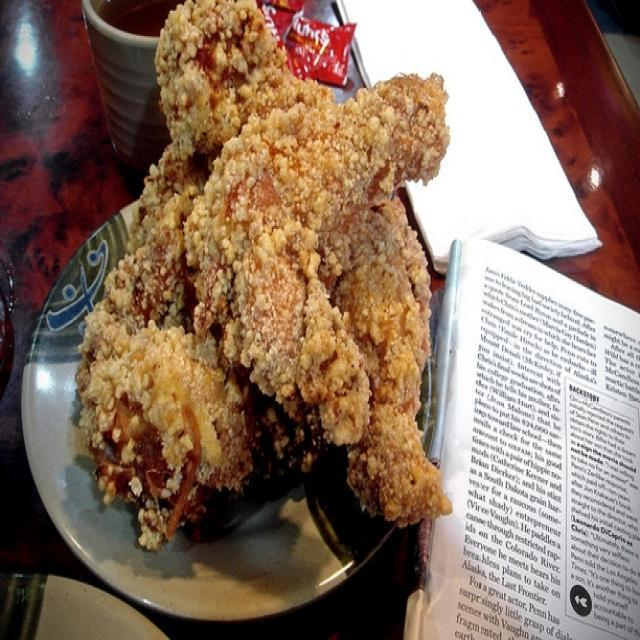Deep fried chicken wing: (86, 20, 442, 542)
